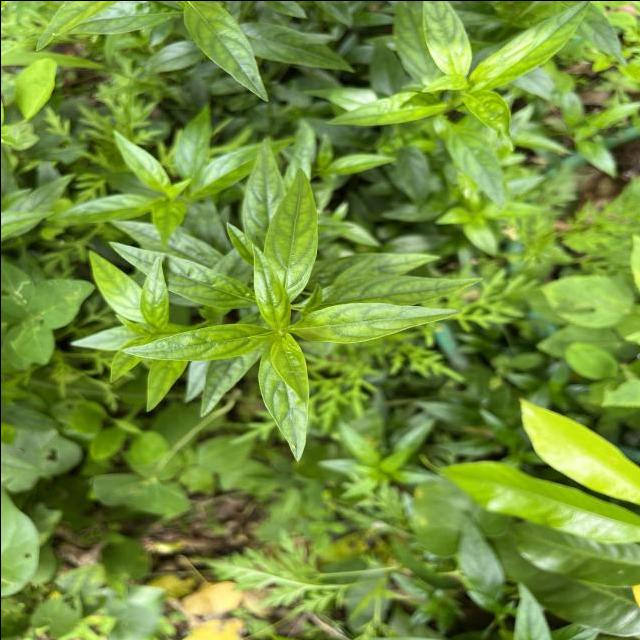Andrographis paniculata: (472, 0, 594, 89), (180, 0, 272, 103), (292, 298, 464, 345), (266, 164, 316, 302), (245, 18, 359, 72), (120, 322, 264, 362), (194, 137, 288, 197), (252, 359, 306, 463), (324, 273, 484, 308), (443, 124, 505, 211), (326, 90, 449, 128), (420, 0, 470, 81), (110, 126, 172, 190), (247, 241, 290, 328), (44, 190, 144, 224), (268, 322, 308, 403), (138, 256, 171, 330), (150, 200, 184, 250), (327, 152, 397, 175)
